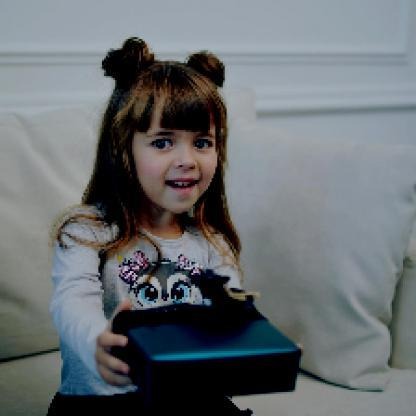child: (46, 35, 246, 416)
